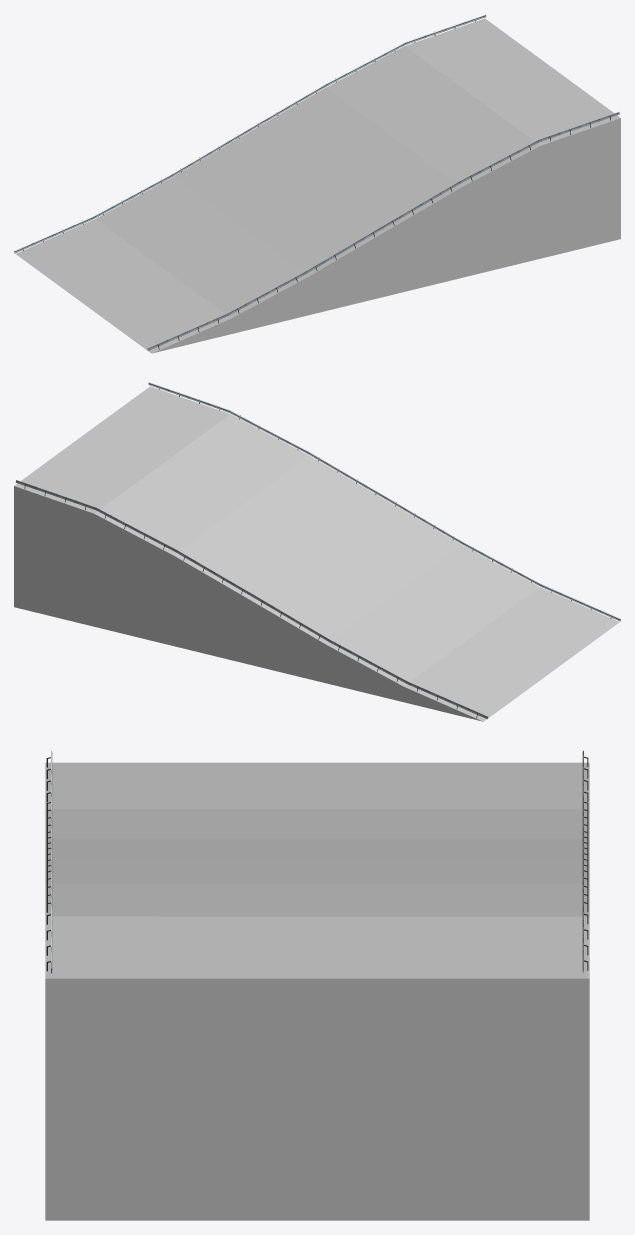
File: straight ramp piece_mobile.FBX
3 views of the same model, one above another, from view 1: azimuth 30°, elevation 25°; view 2: azimuth 150°, elevation 25°; view 3: azimuth 270°, elevation 25° (orthographic). The views are drawn at different scales.
Visible parts, largest first — view 1: Object002; view 2: Object002; view 3: Object002.
Boxes of the visible parts, x1=… form: Object002: x1=14, y1=14, x2=620, y2=353; Object002: x1=14, y1=382, x2=620, y2=721; Object002: x1=45, y1=750, x2=589, y2=1220.
Size of the model in its own units: 70.34 by 17.97 by 35.09.
